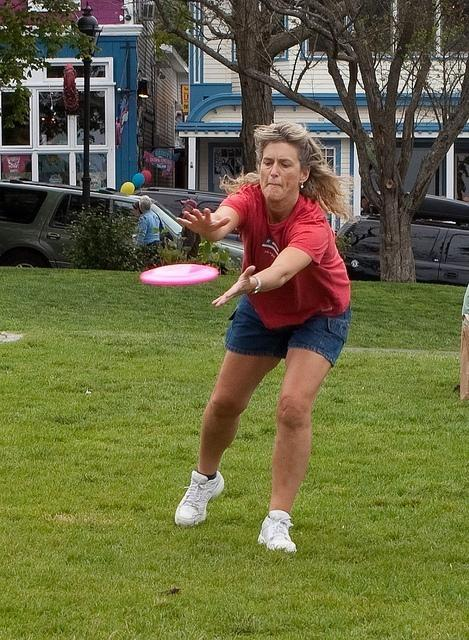car: (333, 192, 467, 282), (134, 187, 242, 243)
truck: (2, 178, 242, 272)
